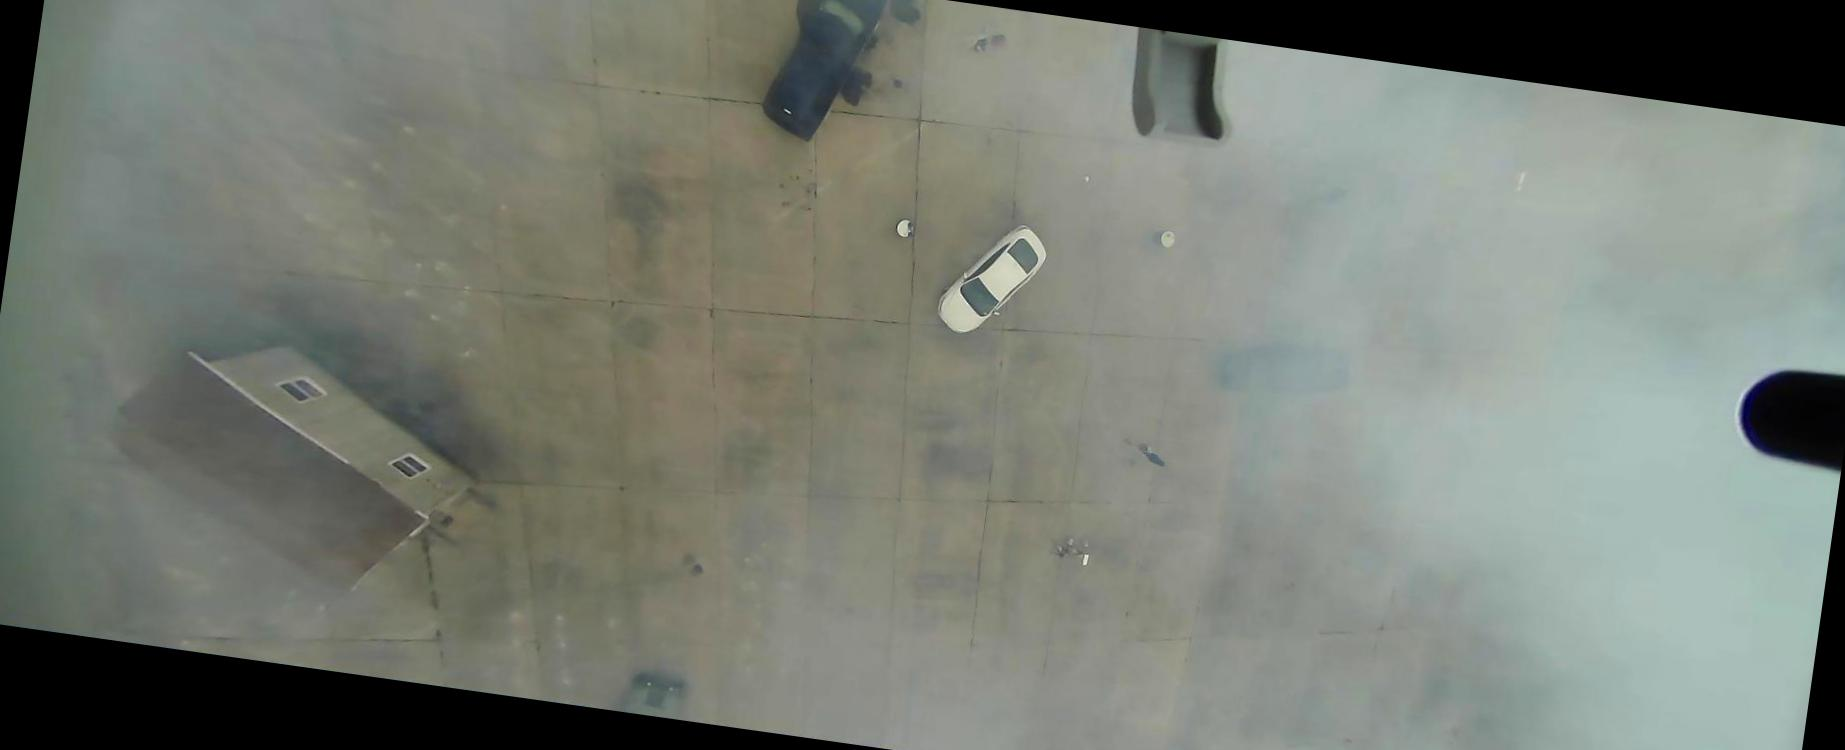vehicle: (755, 0, 894, 152), (932, 212, 1050, 343), (1212, 332, 1352, 410)
